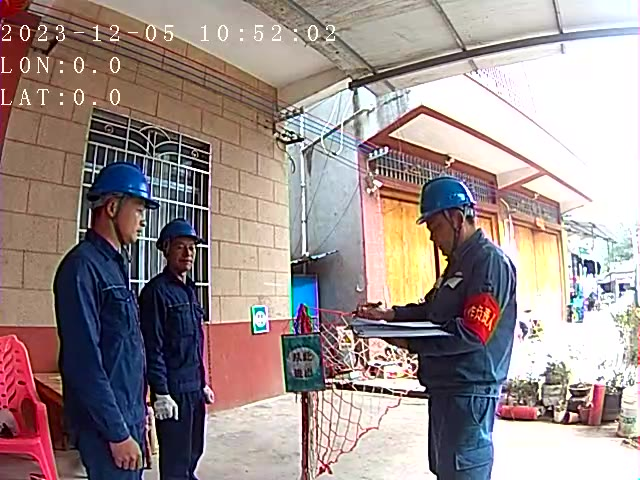badge: (457, 294, 501, 338)
downsuit: (427, 397, 497, 480), (154, 406, 207, 480), (76, 444, 142, 478)
halt: (85, 163, 151, 244), (419, 177, 477, 248), (155, 220, 201, 276)
hand: (107, 437, 142, 470), (353, 298, 390, 319)
inear: (101, 196, 131, 236), (440, 205, 470, 241), (159, 239, 176, 265)
intosign: (280, 333, 327, 394)
person: (395, 175, 520, 480), (53, 159, 162, 480), (140, 217, 217, 480)
upsuit: (52, 228, 144, 450), (406, 231, 517, 391), (140, 281, 209, 397)
wglove: (150, 390, 181, 421), (202, 383, 218, 405)
worksign: (251, 304, 269, 334)
